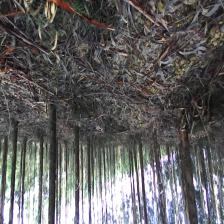trunk: (178, 136, 197, 214), (151, 131, 166, 209), (48, 104, 56, 224), (138, 139, 147, 217), (0, 138, 9, 200), (74, 126, 79, 218), (10, 128, 17, 191), (132, 147, 140, 197), (38, 139, 43, 213), (22, 137, 26, 210), (86, 138, 91, 195)
